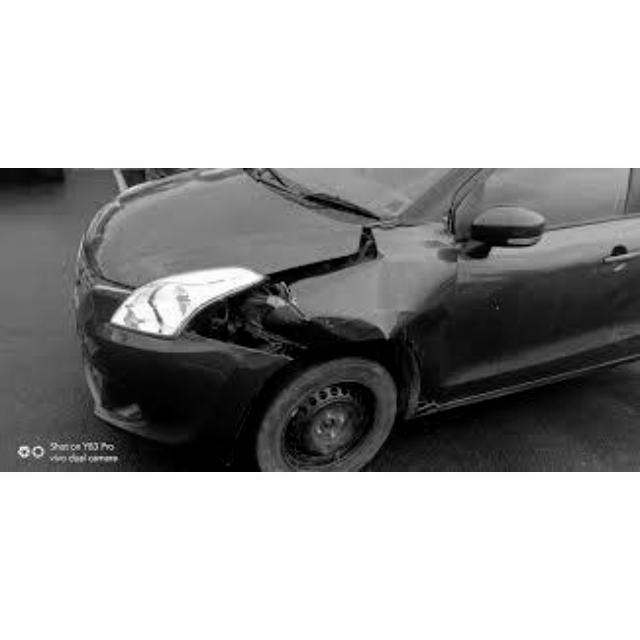fender-dent: (273, 265, 455, 402)
front-bumper-dent: (75, 324, 273, 451)
